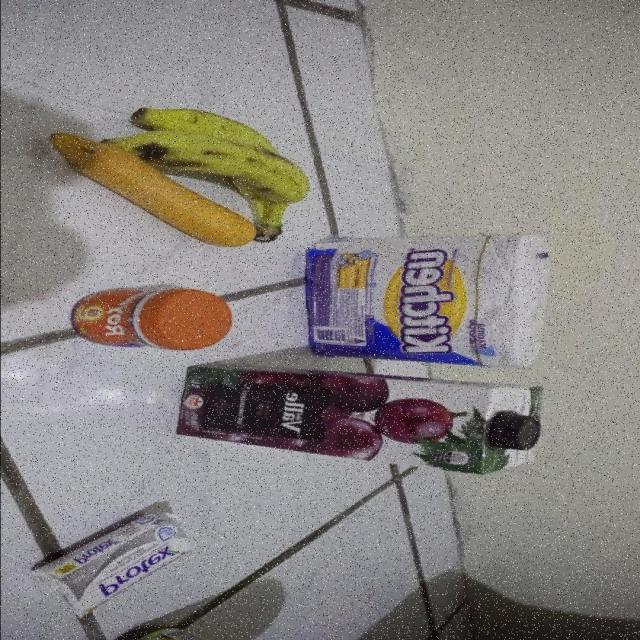Banana: (100, 105, 310, 245)
Carrot: (47, 129, 256, 248)
ChocolatePowder: (105, 622, 245, 640)
Napkin: (304, 230, 552, 372)
Soap: (29, 510, 193, 619)
Yeast: (66, 286, 234, 351)
